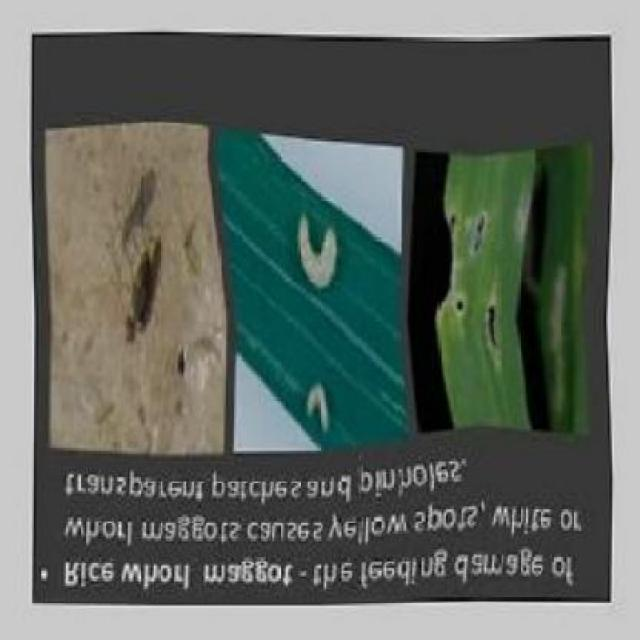whorl-maggot: (291, 208, 346, 300), (302, 378, 336, 437)
